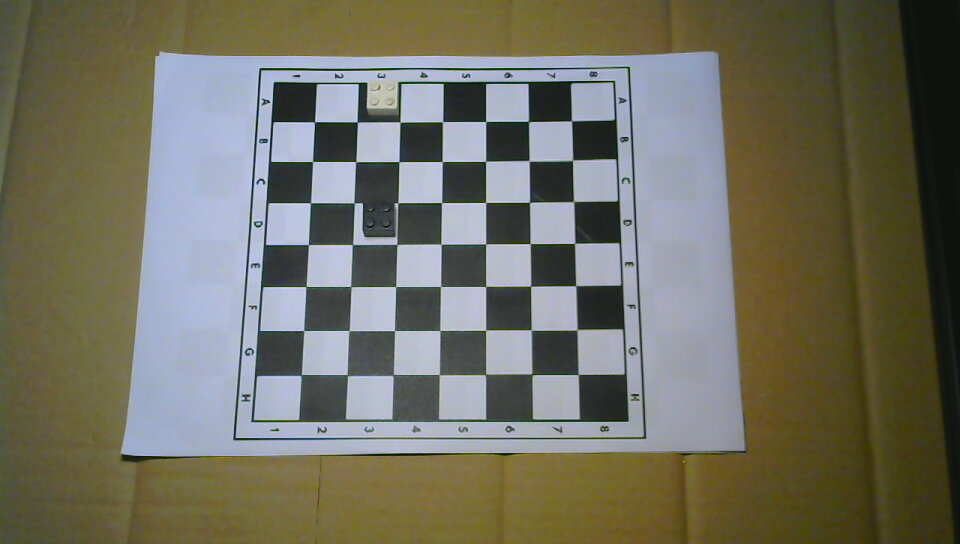bp: (361, 198, 398, 239)
wp: (365, 78, 401, 119)
